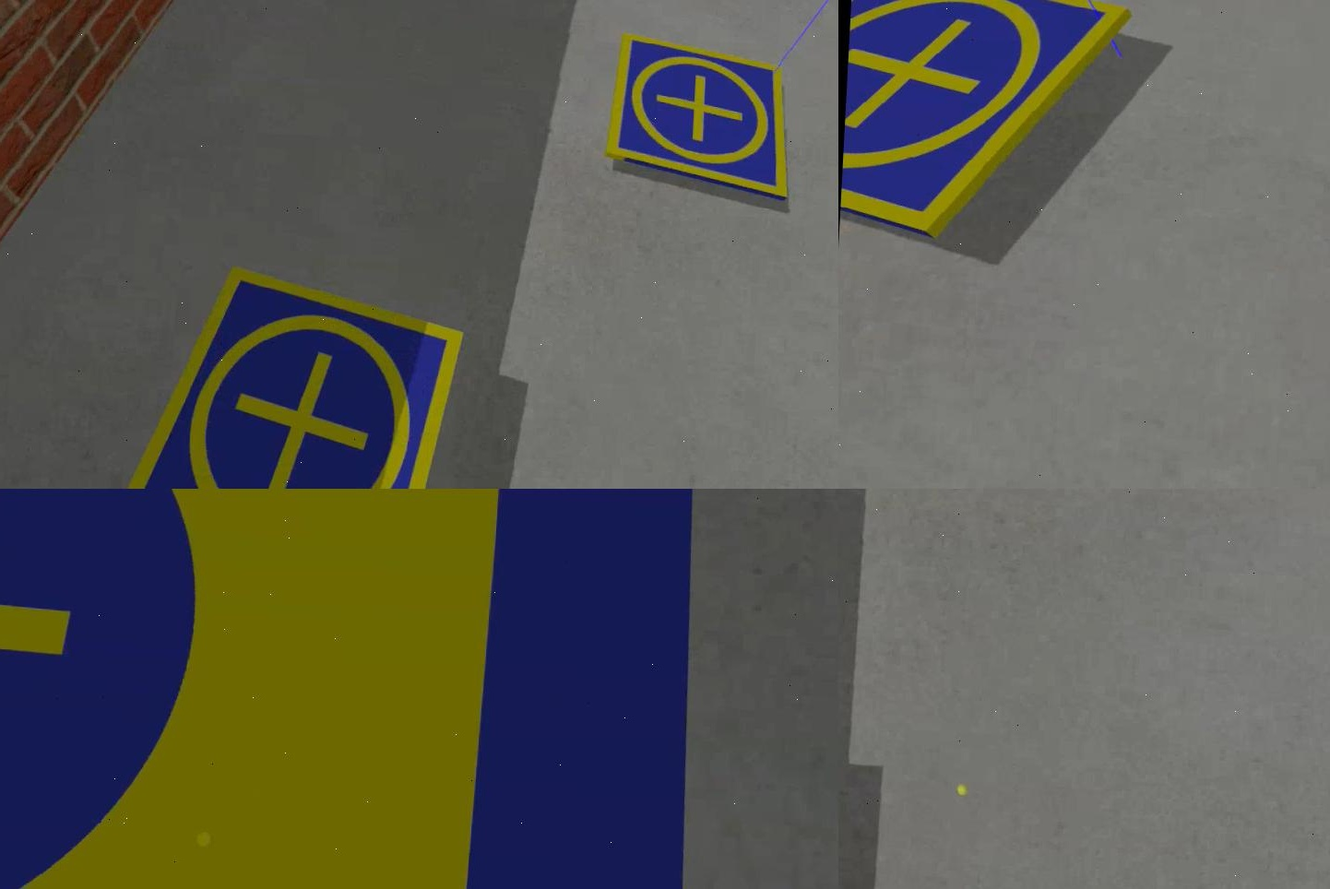large_base: (0, 490, 702, 889)
small_base: (121, 258, 468, 490), (837, 1, 1133, 245), (599, 30, 797, 206)
